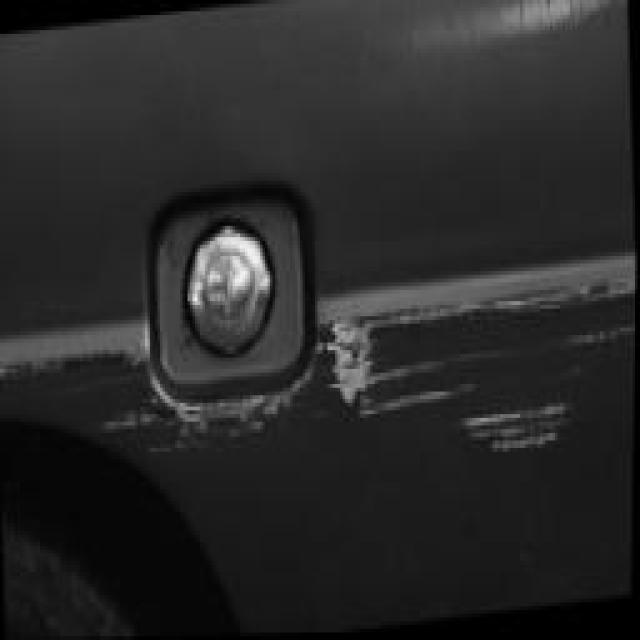Fender: (0, 218, 637, 568)
